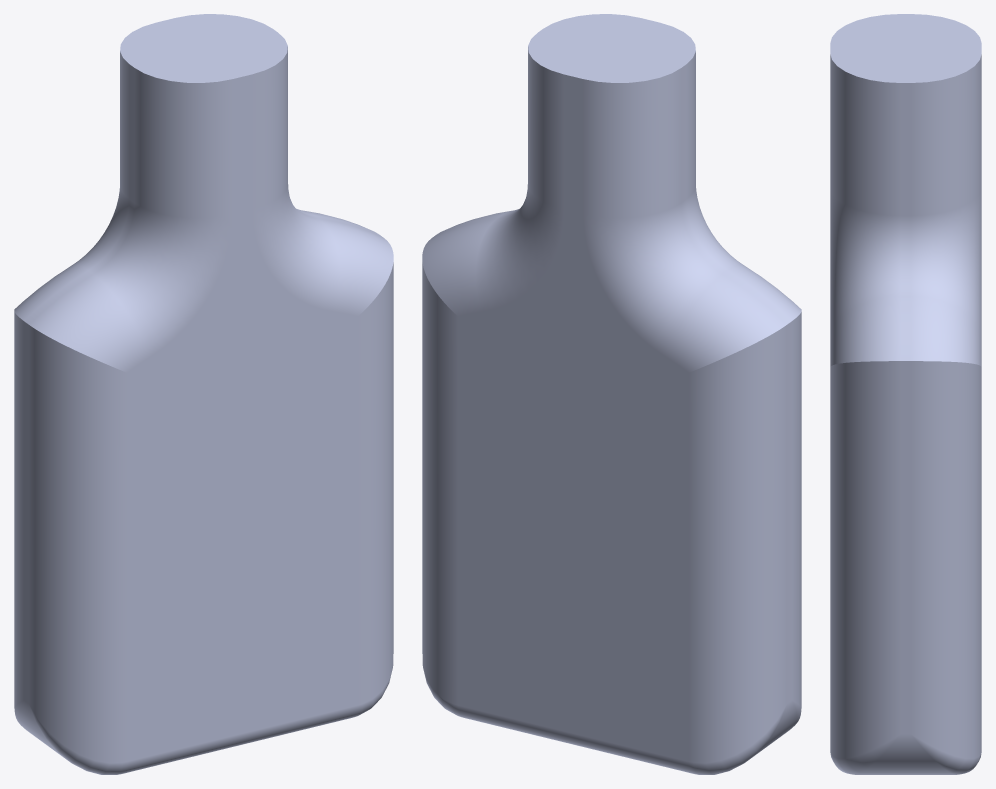
File: Bullseye.dae
3 views of the same model, side by side, from view 1: azimuth 30°, elevation 25°; view 2: azimuth 150°, elevation 25°; view 3: azimuth 270°, elevation 25° (orthographic).
Visible parts, largest first — view 1: Actor0; view 2: Actor0; view 3: Actor0.
Part boxes in pixels (bbox=[...]): Actor0: bbox=[14, 14, 393, 774]; Actor0: bbox=[422, 14, 801, 774]; Actor0: bbox=[830, 14, 981, 774].
Size of the model in its own units: 0.1014 by 0.1842 by 0.0381.
